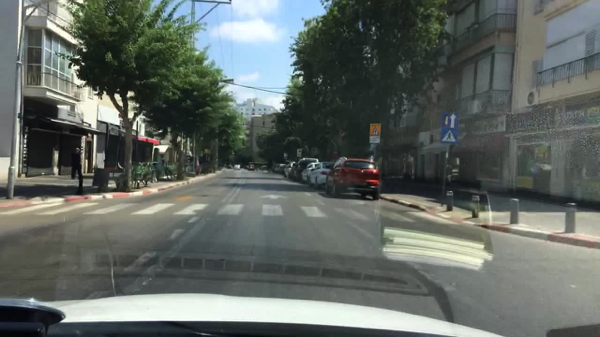bike: (113, 162, 139, 190), (118, 167, 148, 188), (135, 162, 159, 185), (162, 165, 177, 180)
car: (326, 156, 381, 200), (289, 157, 317, 184), (308, 162, 334, 188), (134, 162, 169, 181), (301, 162, 320, 185), (283, 161, 296, 179), (275, 163, 287, 175), (272, 163, 280, 173), (248, 164, 256, 171), (226, 163, 234, 169), (234, 164, 241, 170), (244, 164, 248, 169)
person: (71, 147, 84, 198), (196, 158, 200, 176)
traffic sign: (440, 110, 457, 143), (369, 124, 379, 143), (296, 148, 301, 159), (283, 152, 288, 158)
